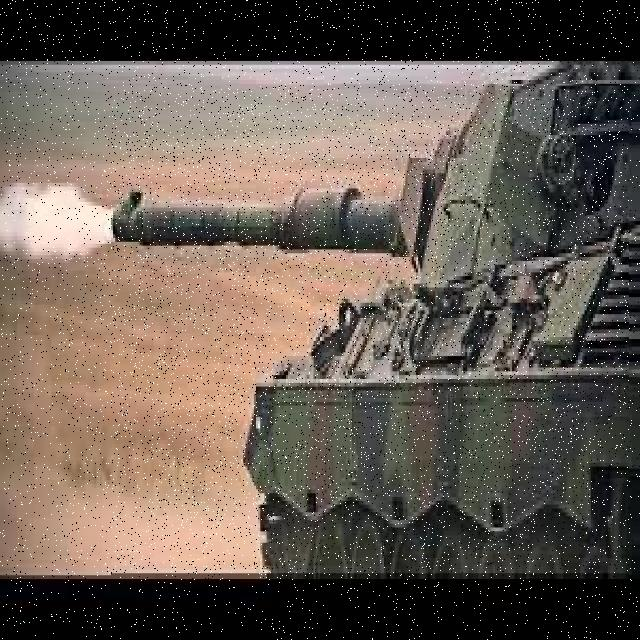MIL_MBT: (111, 85, 629, 575)
